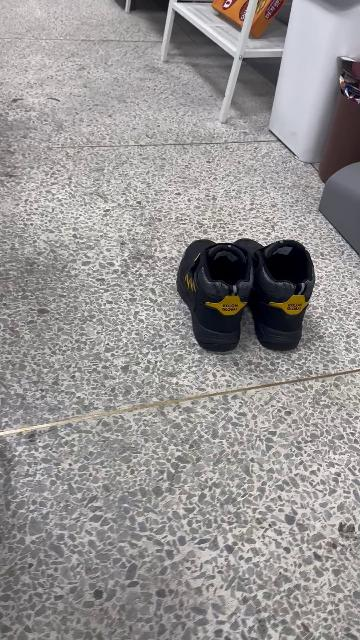shoe_worn: (233, 235, 318, 351), (181, 238, 244, 353)
